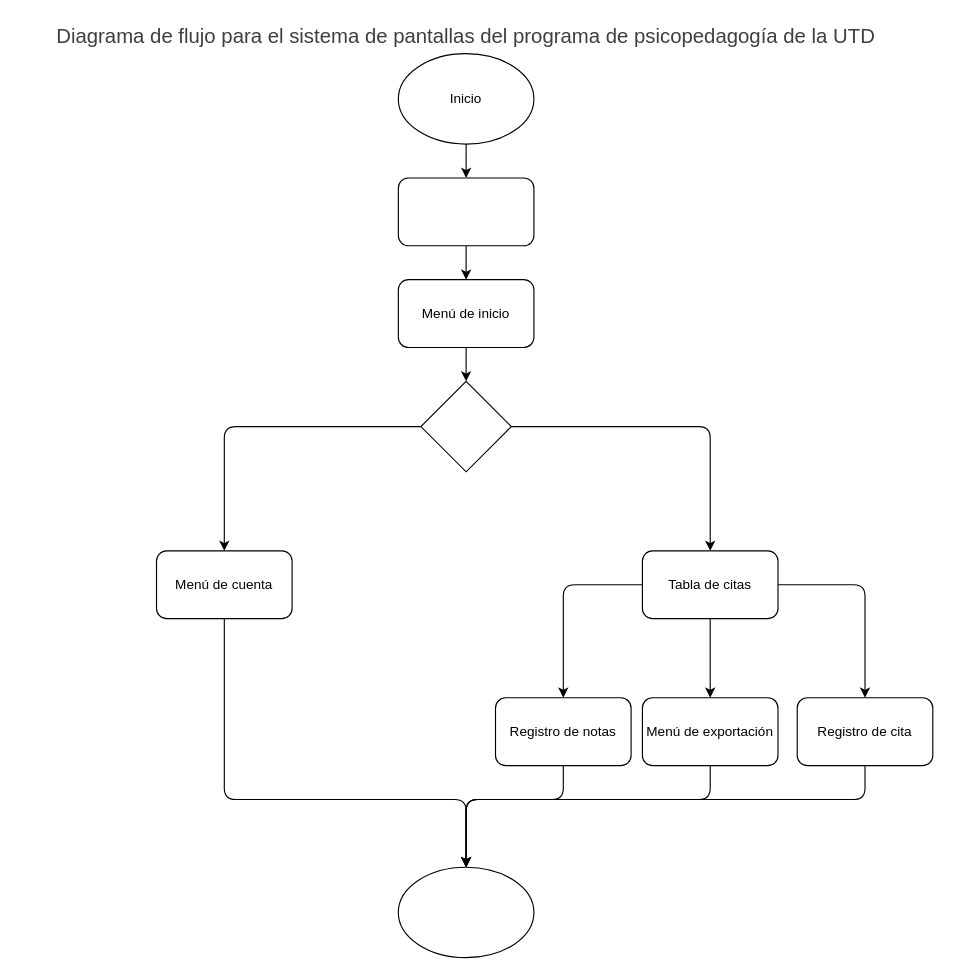
Some shapes in this 953 by 977 pixel diagram are drawn without their labels. The shapes that lost their labels are listed below. From the top down, each one's box as (x1, y1, x2, y2) in pixels, then its label:
(397, 177, 534, 246): Menú de inicio de sesión
(420, 380, 511, 472): Opciones
(397, 866, 534, 958): Fin
